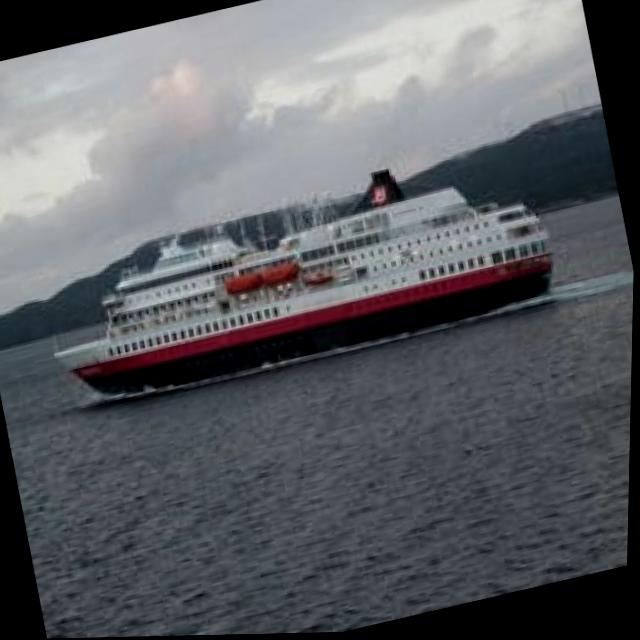ship2: (55, 172, 556, 400)
